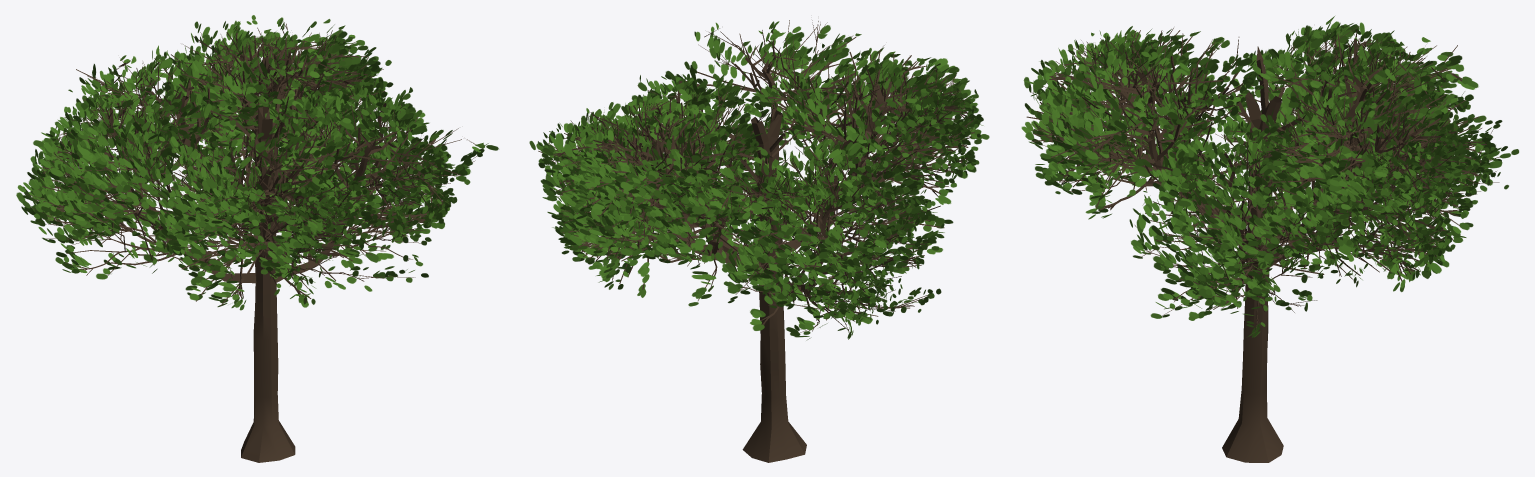
3 renders of one model, left to right at view 1: azimuth 30°, elevation 25°; view 2: azimuth 150°, elevation 25°; view 3: azimuth 270°, elevation 25°, orthographic. The views are drawn at different scales.
Parts seen in each view (by area): view 1: oak 01.001_trunk_Mat.001_0.133; view 2: oak 01.001_trunk_Mat.001_0.133; view 3: oak 01.001_trunk_Mat.001_0.133.
Part boxes in pixels (bbox=[...]): oak 01.001_trunk_Mat.001_0.133: bbox=[16, 15, 498, 462]; oak 01.001_trunk_Mat.001_0.133: bbox=[529, 20, 989, 462]; oak 01.001_trunk_Mat.001_0.133: bbox=[1021, 16, 1519, 462].
Bounding box in the file's own units: 4.24 × 3.86 × 4.65.
2 materials, 1 textured.
